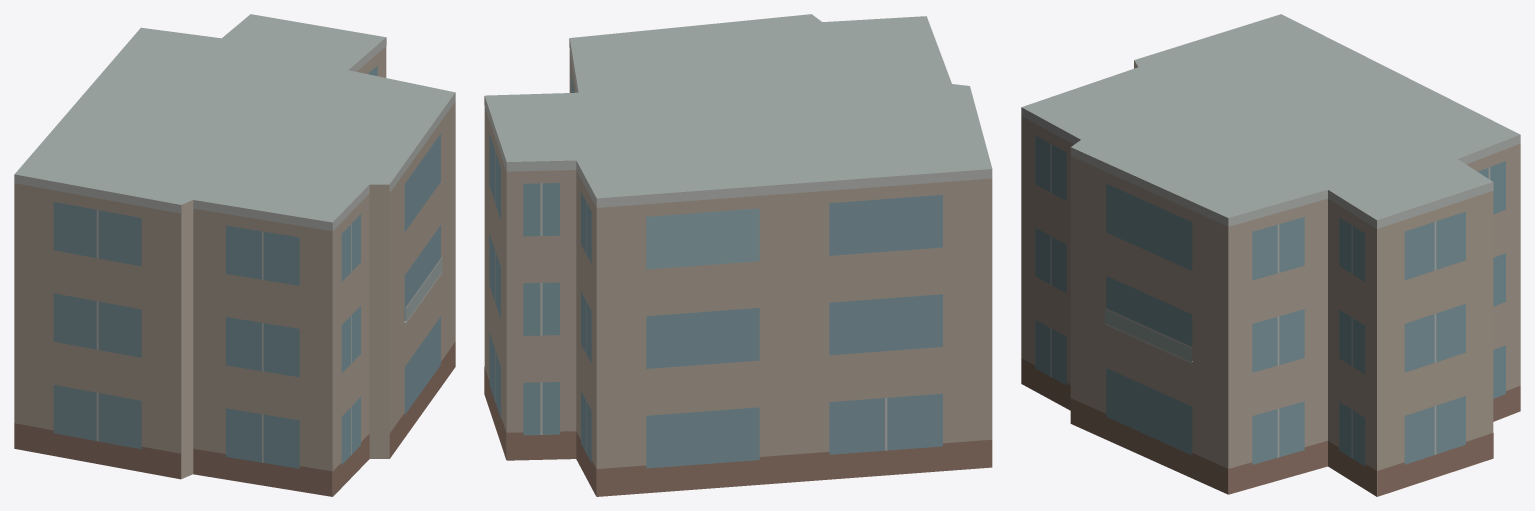
The model's file is survey-upis-32748187.glb.
3 renders of one model, left to right at view 1: azimuth 30°, elevation 25°; view 2: azimuth 150°, elevation 25°; view 3: azimuth 270°, elevation 25°, orthographic. The views are drawn at different scales.
Parts seen in each view (by area): view 1: survey-upis-32748187.tmp; view 2: survey-upis-32748187.tmp; view 3: survey-upis-32748187.tmp.
Part boxes in pixels (x1,y1,x2,y2): survey-upis-32748187.tmp: (14, 14, 455, 496); survey-upis-32748187.tmp: (484, 14, 992, 496); survey-upis-32748187.tmp: (1021, 14, 1520, 496).
Size of the model in its own units: 12.33 by 7.7 by 12.61.
